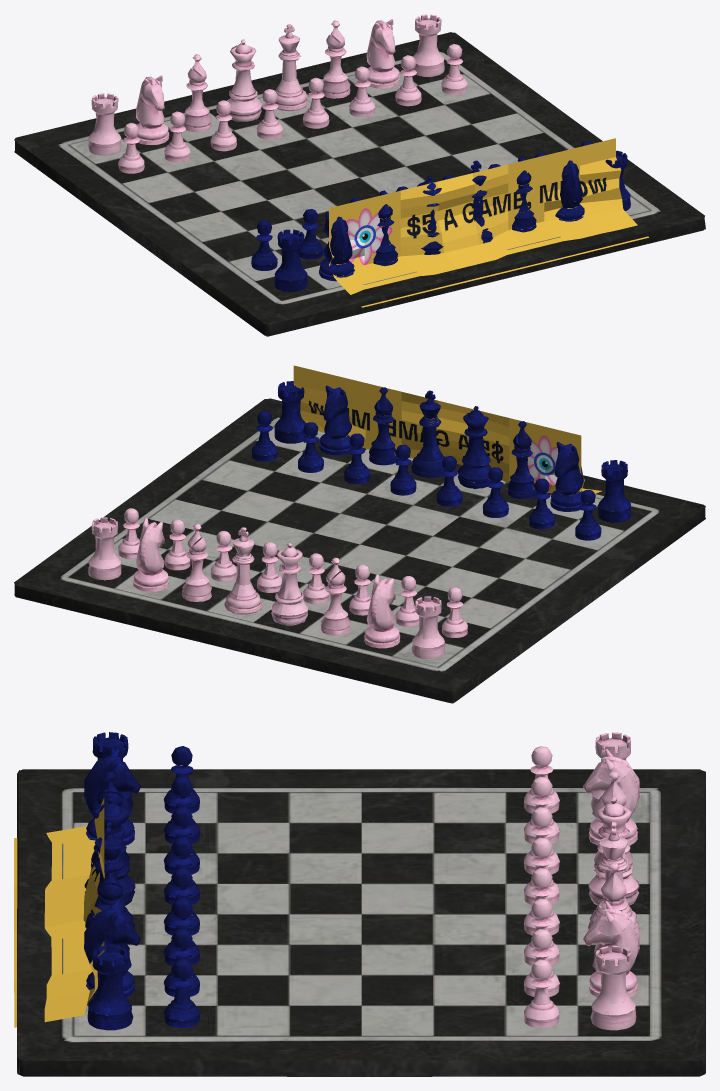
File: nyb_bobbyfischer_chess.glb
3 views of the same model, one above another, from view 1: azimuth 30°, elevation 25°; view 2: azimuth 150°, elevation 25°; view 3: azimuth 270°, elevation 25° (orthographic). The views are drawn at different scales.
Parts seen in each view (by area): view 1: piece_rook_white_01, stk_lbl_1cdad7d992.png; view 2: piece_rook_white_01, stk_lbl_1cdad7d992.png; view 3: piece_rook_white_01, stk_lbl_1cdad7d992.png.
Boxes of the visible parts, x1=… form: piece_rook_white_01: x1=14, y1=14, x2=705, y2=336; stk_lbl_1cdad7d992.png: x1=329, y1=138, x2=648, y2=307; piece_rook_white_01: x1=14, y1=381, x2=705, y2=703; stk_lbl_1cdad7d992.png: x1=293, y1=365, x2=601, y2=495; piece_rook_white_01: x1=17, y1=732, x2=705, y2=1076; stk_lbl_1cdad7d992.png: x1=14, y1=797, x2=104, y2=1027.
Size of the model in its own units: 0.5532 by 0.1121 by 0.5557.
Materials: 4 (4 with a texture image).
